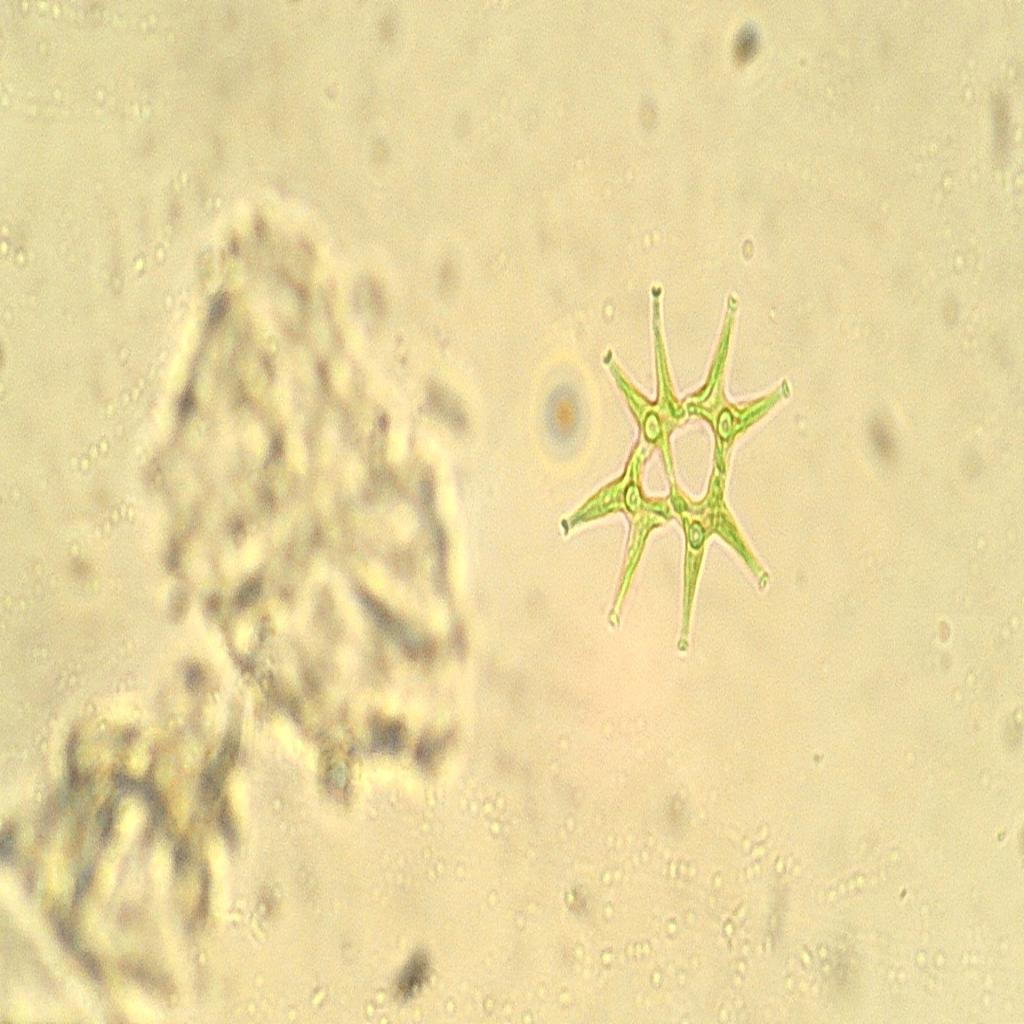Pediastrum_75FO: (548, 264, 807, 664)
